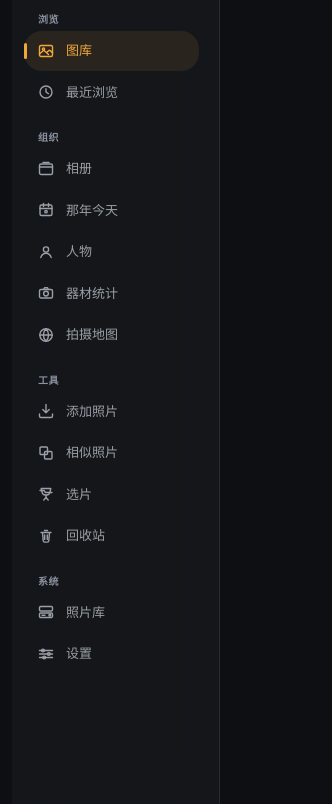
Sidebar（M4.5 A3 分组信息架构） › 点击导航项跳转对应路由
Click the link "最近浏览" at {"x": 78, "y": 92}, box 38,84 -> 118,100
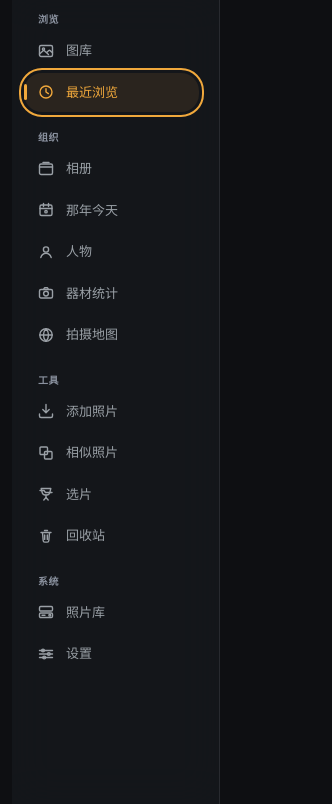
Click the link "相册" at {"x": 65, "y": 168}, box 38,160 -> 92,177
(page scrolled)
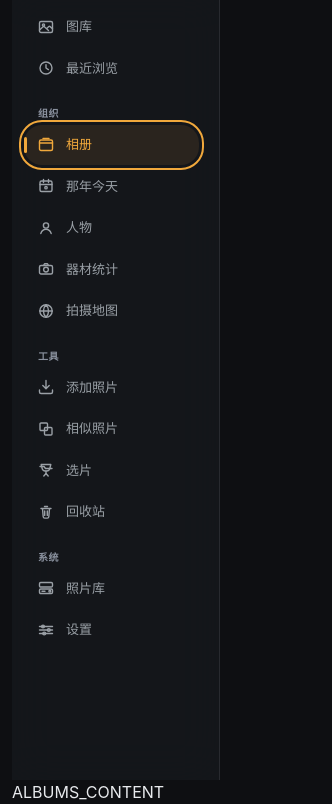
Result: the text "ALBUMS_CONTENT" is shown at 12,782 -> 164,802
